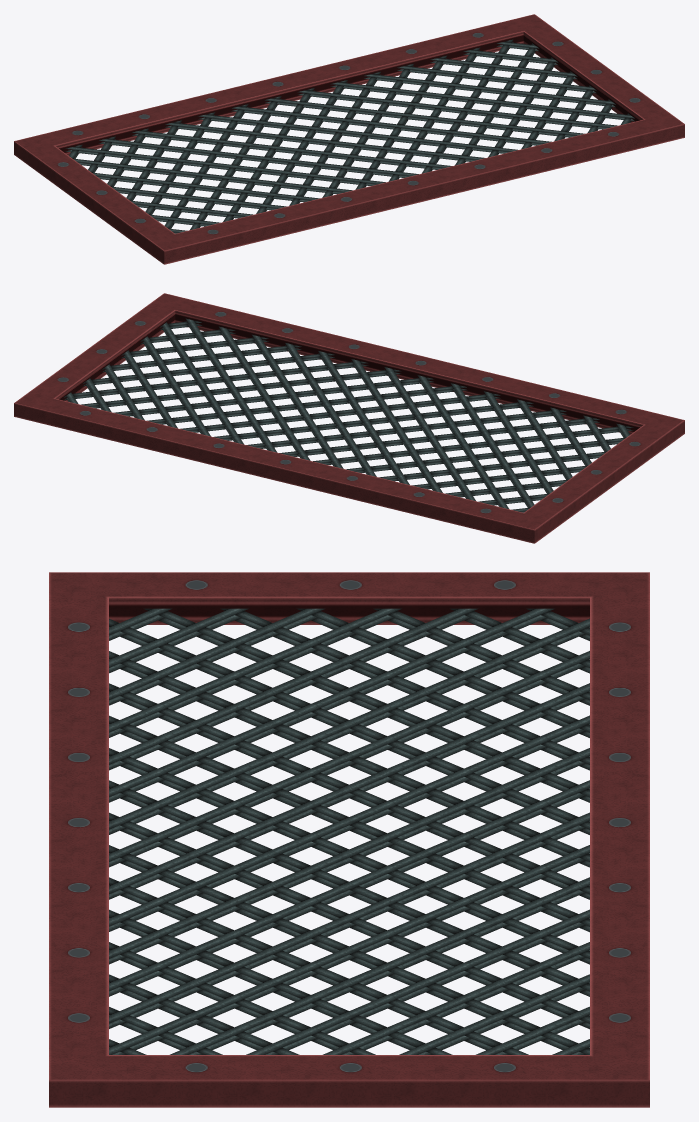
File: Stage Platform.dae
3 renders of one model, top to bottom at view 1: azimuth 30°, elevation 25°; view 2: azimuth 150°, elevation 25°; view 3: azimuth 270°, elevation 25°, orthographic. The views are drawn at different scales.
Visible parts, largest first — view 1: Frame, Platform; view 2: Frame, Platform; view 3: Platform, Frame.
Part boxes in pixels (x1,y1,x2,y2): Frame: (14,14,684,264); Platform: (65,39,634,233); Frame: (14,293,684,543); Platform: (64,318,633,512); Platform: (109,608,589,1054); Frame: (49,572,649,1107).
Bounding box in the file's own units: 400 × 10 × 200.
2 materials, 2 textured.
